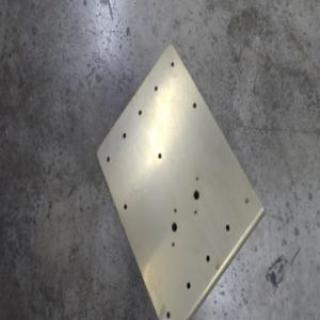MetalSheettrack_idkeyframe: (94, 42, 265, 319)
